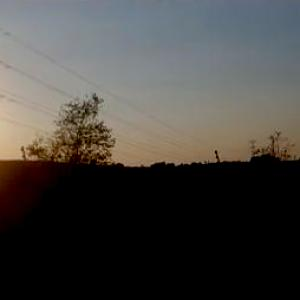follow: (92, 192, 157, 299)
